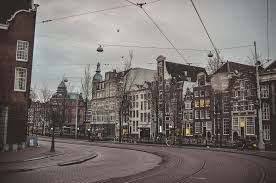strada: (10, 144, 276, 181)
